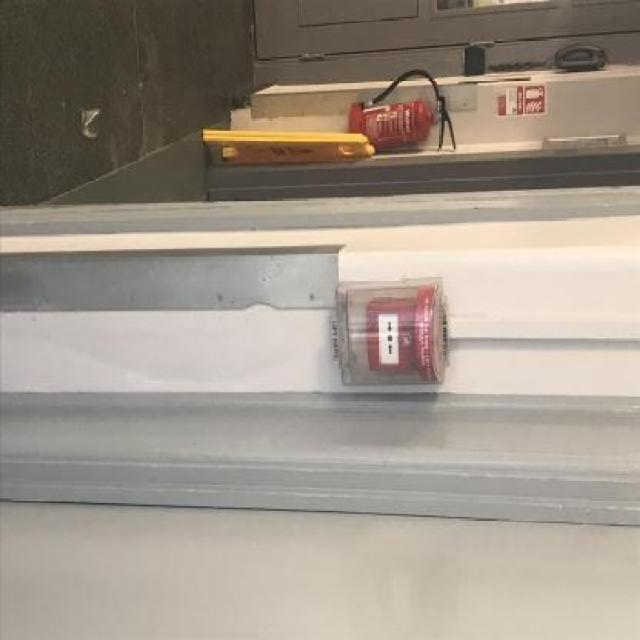fire extinguisher: (348, 69, 457, 156)
